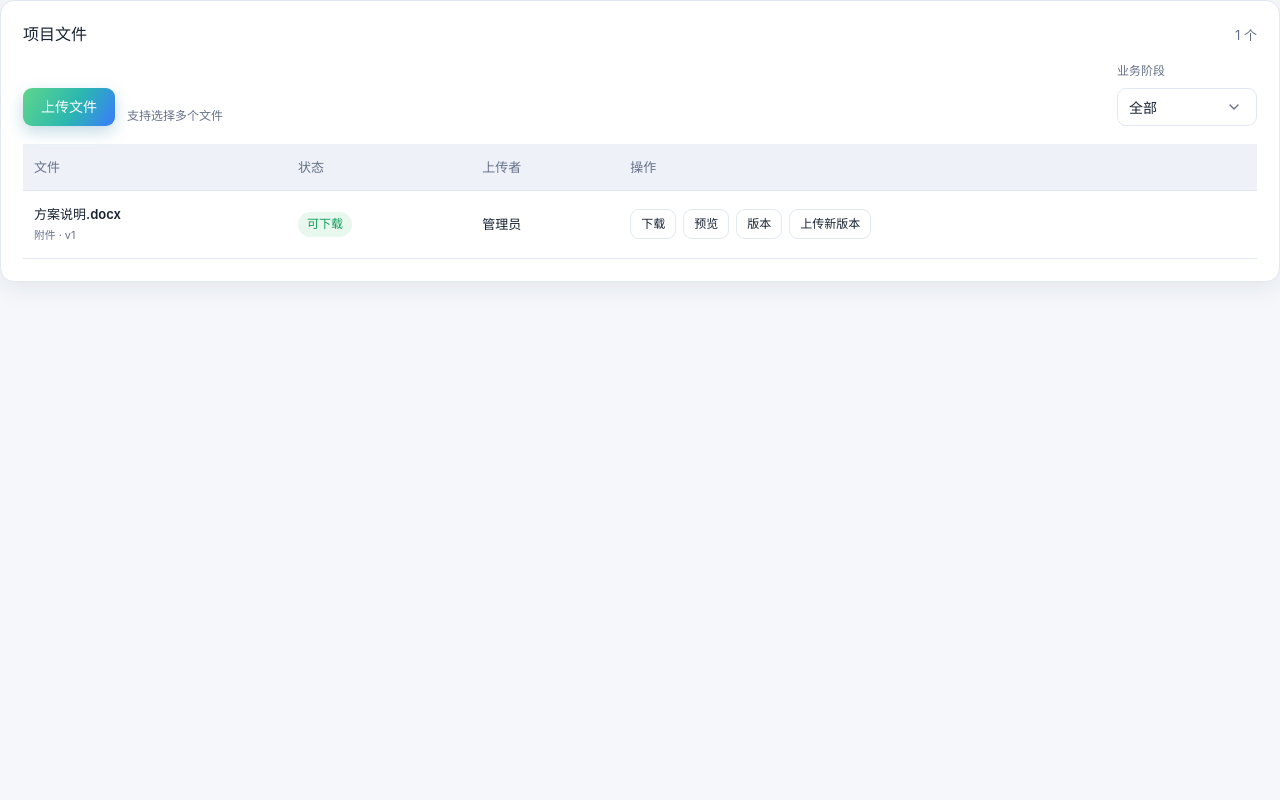
Test: project files workspace › queues preview regeneration from a failed preview
Click the button with aria-label "预览：方案说明.docx" at (706, 224), box [683,209,729,239]
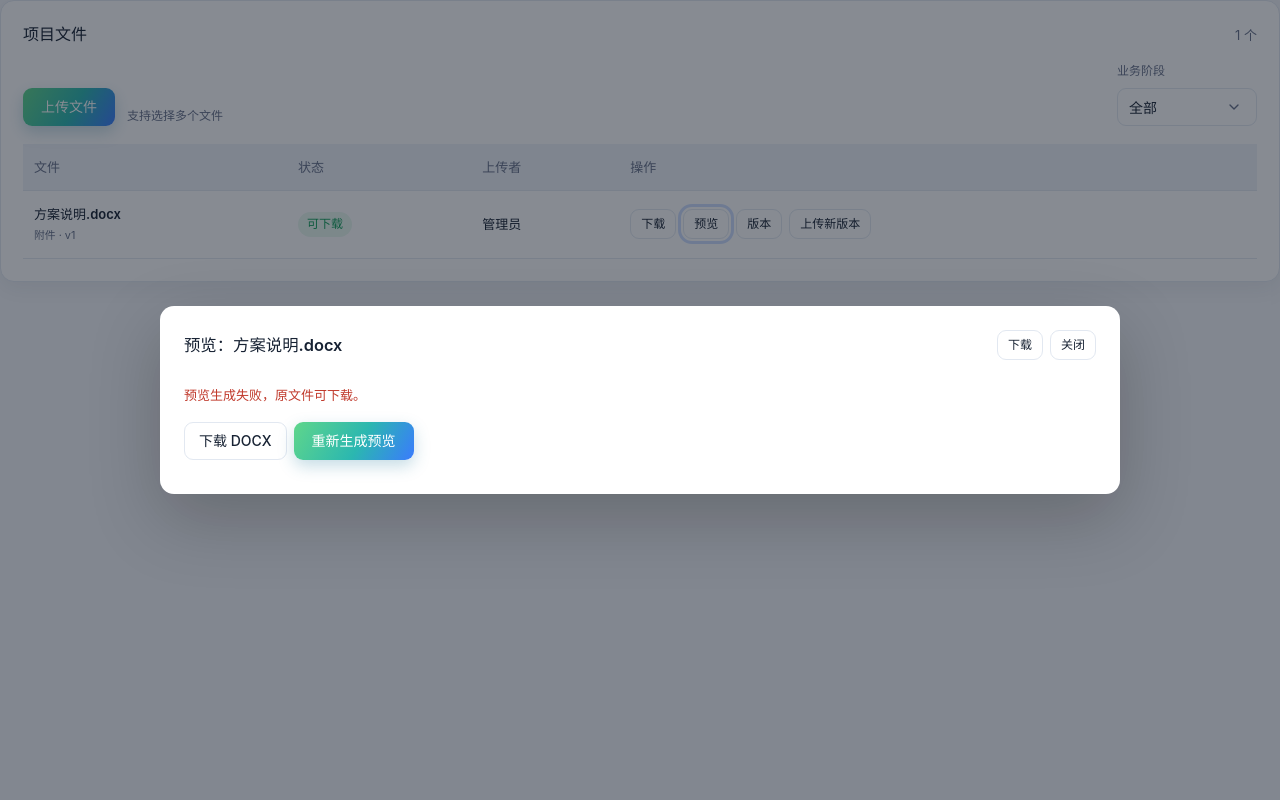
Click the button "重新生成预览" at (354, 441), box [294,422,414,460]
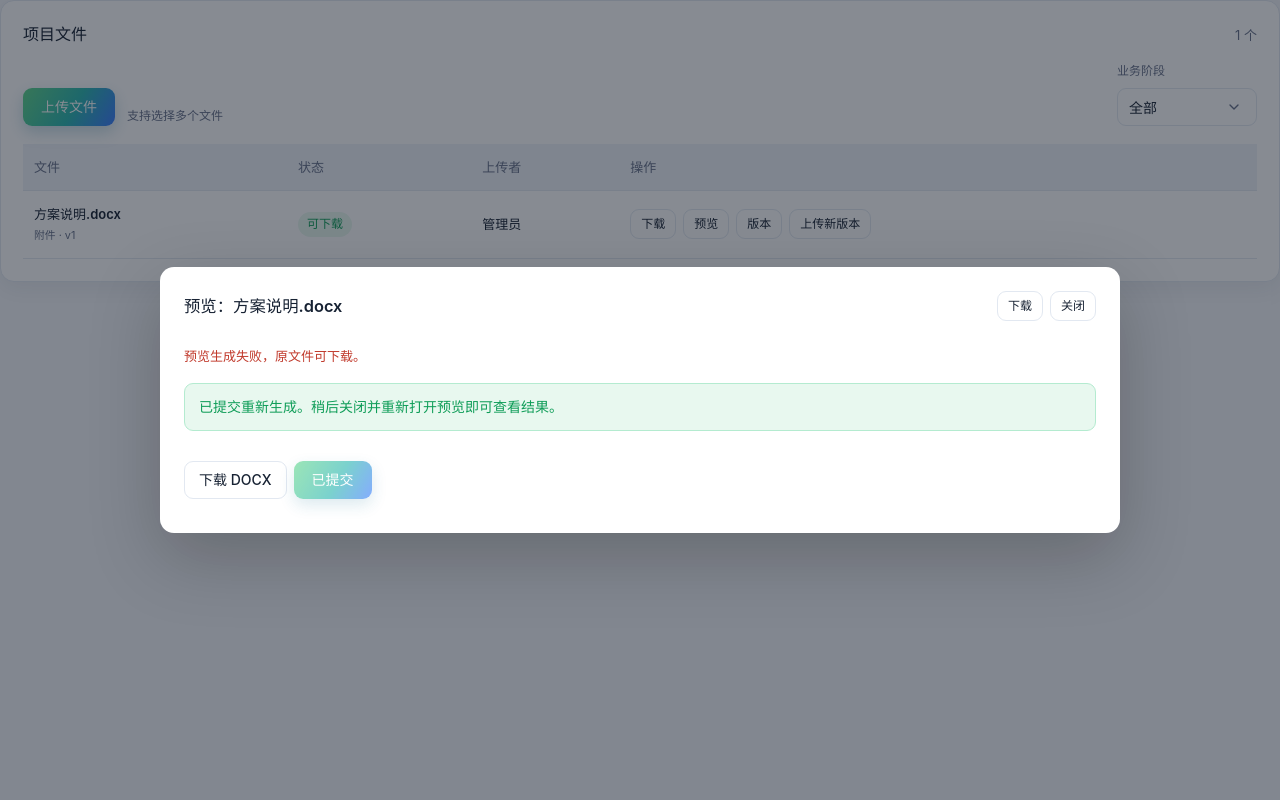
expect the text "已提交重新生成。稍后关闭并重新打开预览即可查看结果。" is shown: met, box [184,383,1096,431]
